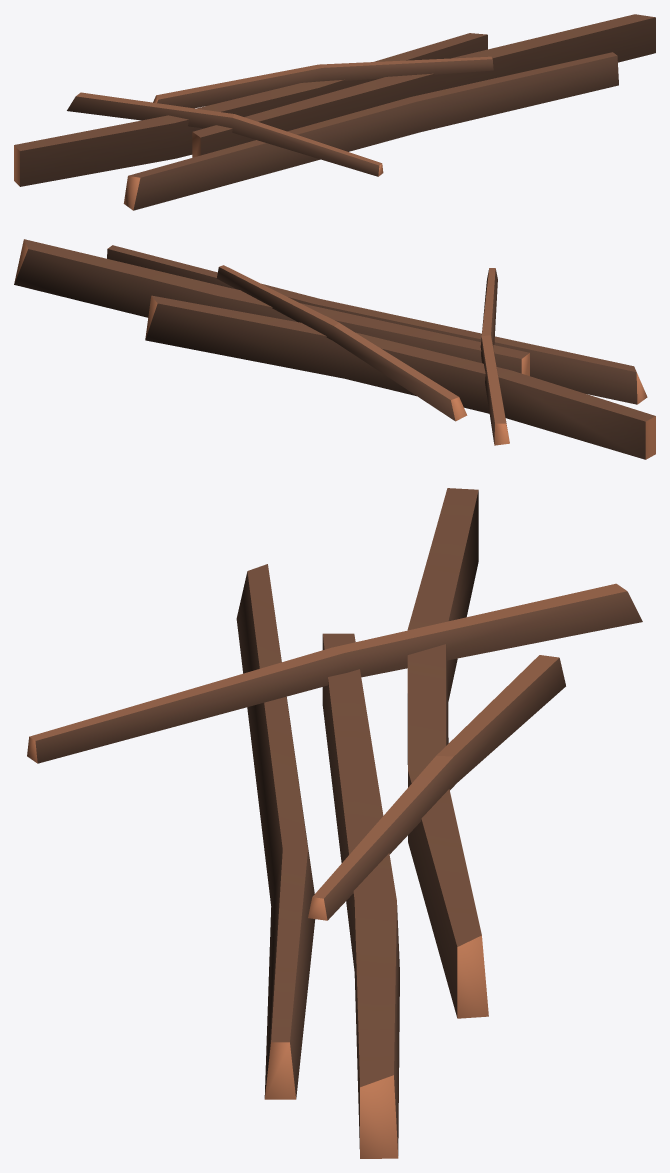
The model's file is Twigs_1B.fbx.
3 views of the same model, one above another, from view 1: azimuth 30°, elevation 25°; view 2: azimuth 150°, elevation 25°; view 3: azimuth 270°, elevation 25° (orthographic). The views are drawn at different scales.
Parts seen in each view (by area): view 1: Twigs_1B; view 2: Twigs_1B; view 3: Twigs_1B.
Part boxes in pixels (x1,y1,x2,y2): Twigs_1B: (14,14,655,210); Twigs_1B: (14,239,655,459); Twigs_1B: (27,488,642,1158).
Size of the model in its own units: 180 by 13.43 by 78.
